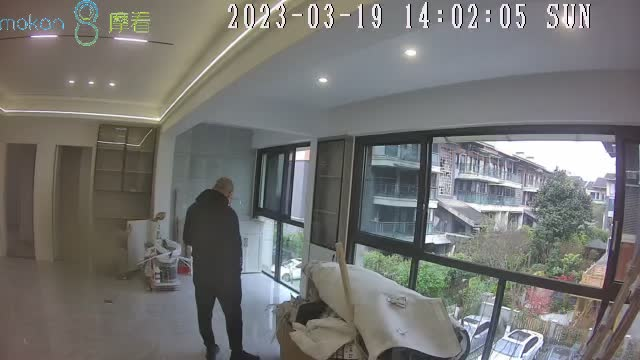people: (183, 177, 263, 360)
window: (347, 135, 638, 359)
